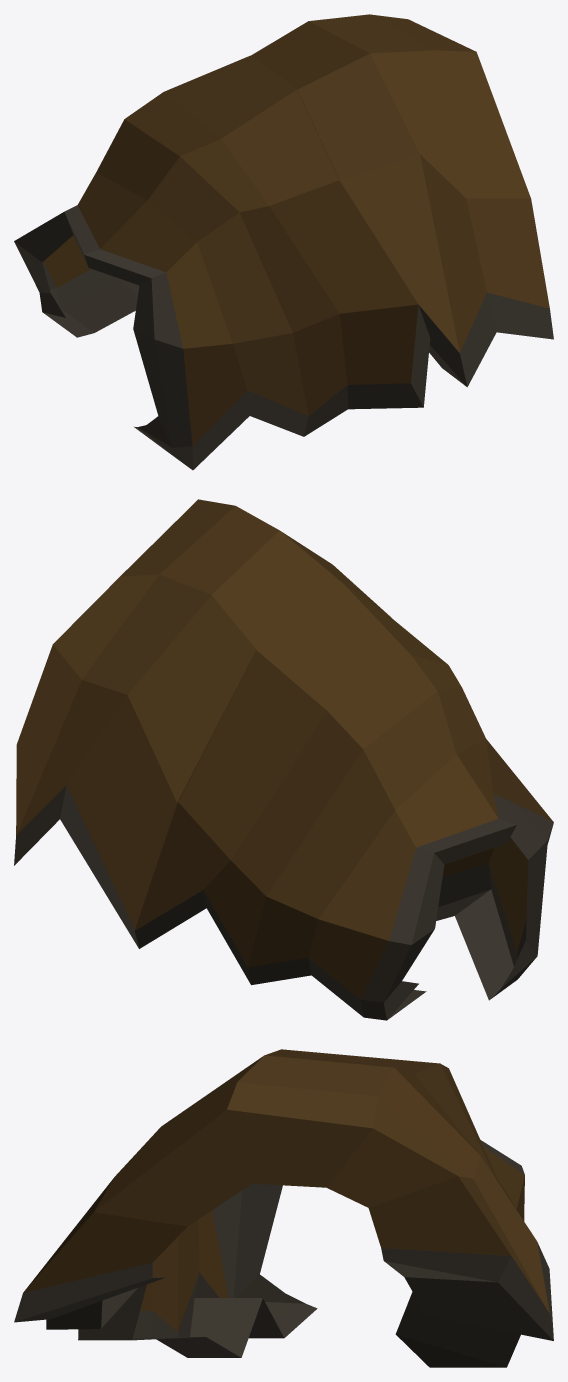
Rendered from Icon.fbx.
3 renders of one model, top to bottom at view 1: azimuth 30°, elevation 25°; view 2: azimuth 150°, elevation 25°; view 3: azimuth 270°, elevation 25°, orthographic. The views are drawn at different scales.
Visible parts, largest first — view 1: Leather_Shoulder.002; view 2: Leather_Shoulder.002; view 3: Leather_Shoulder.002.
Part boxes in pixels (box(x1,y1,x2,y2)): Leather_Shoulder.002: box(14, 14, 553, 470); Leather_Shoulder.002: box(14, 499, 553, 1020); Leather_Shoulder.002: box(14, 1049, 553, 1367).
Size of the model in its own units: 25.91 by 24.5 by 31.25.
